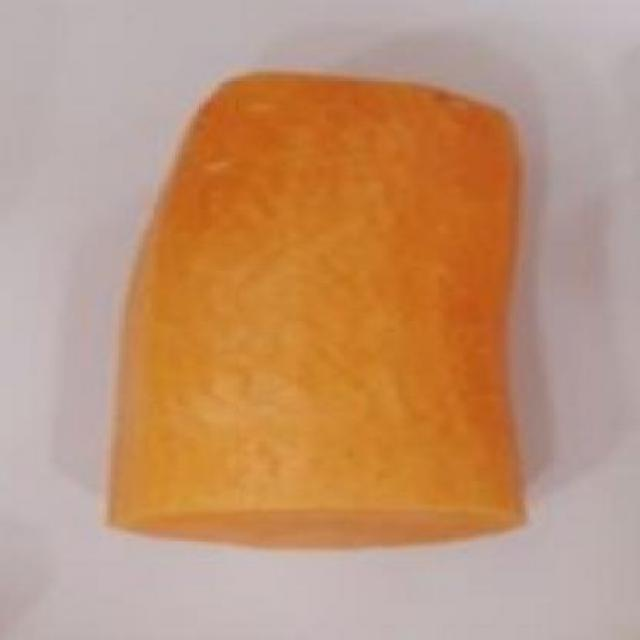carrot: (60, 63, 580, 583)
